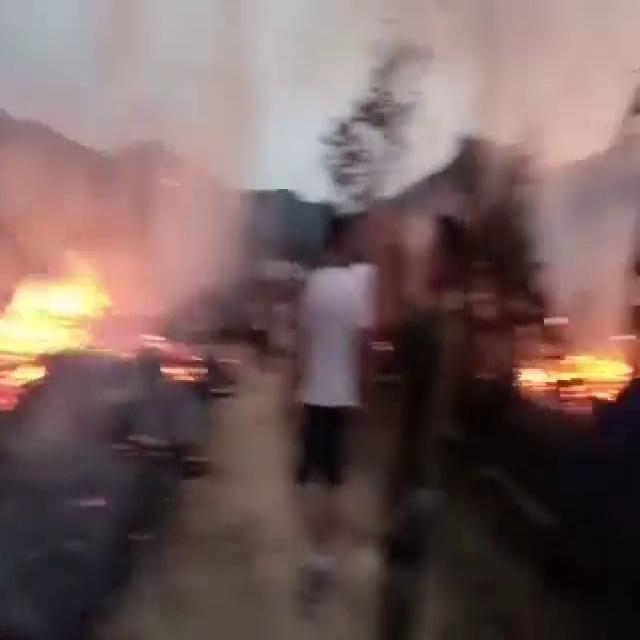Fire: (0, 256, 111, 405), (513, 344, 633, 404)
